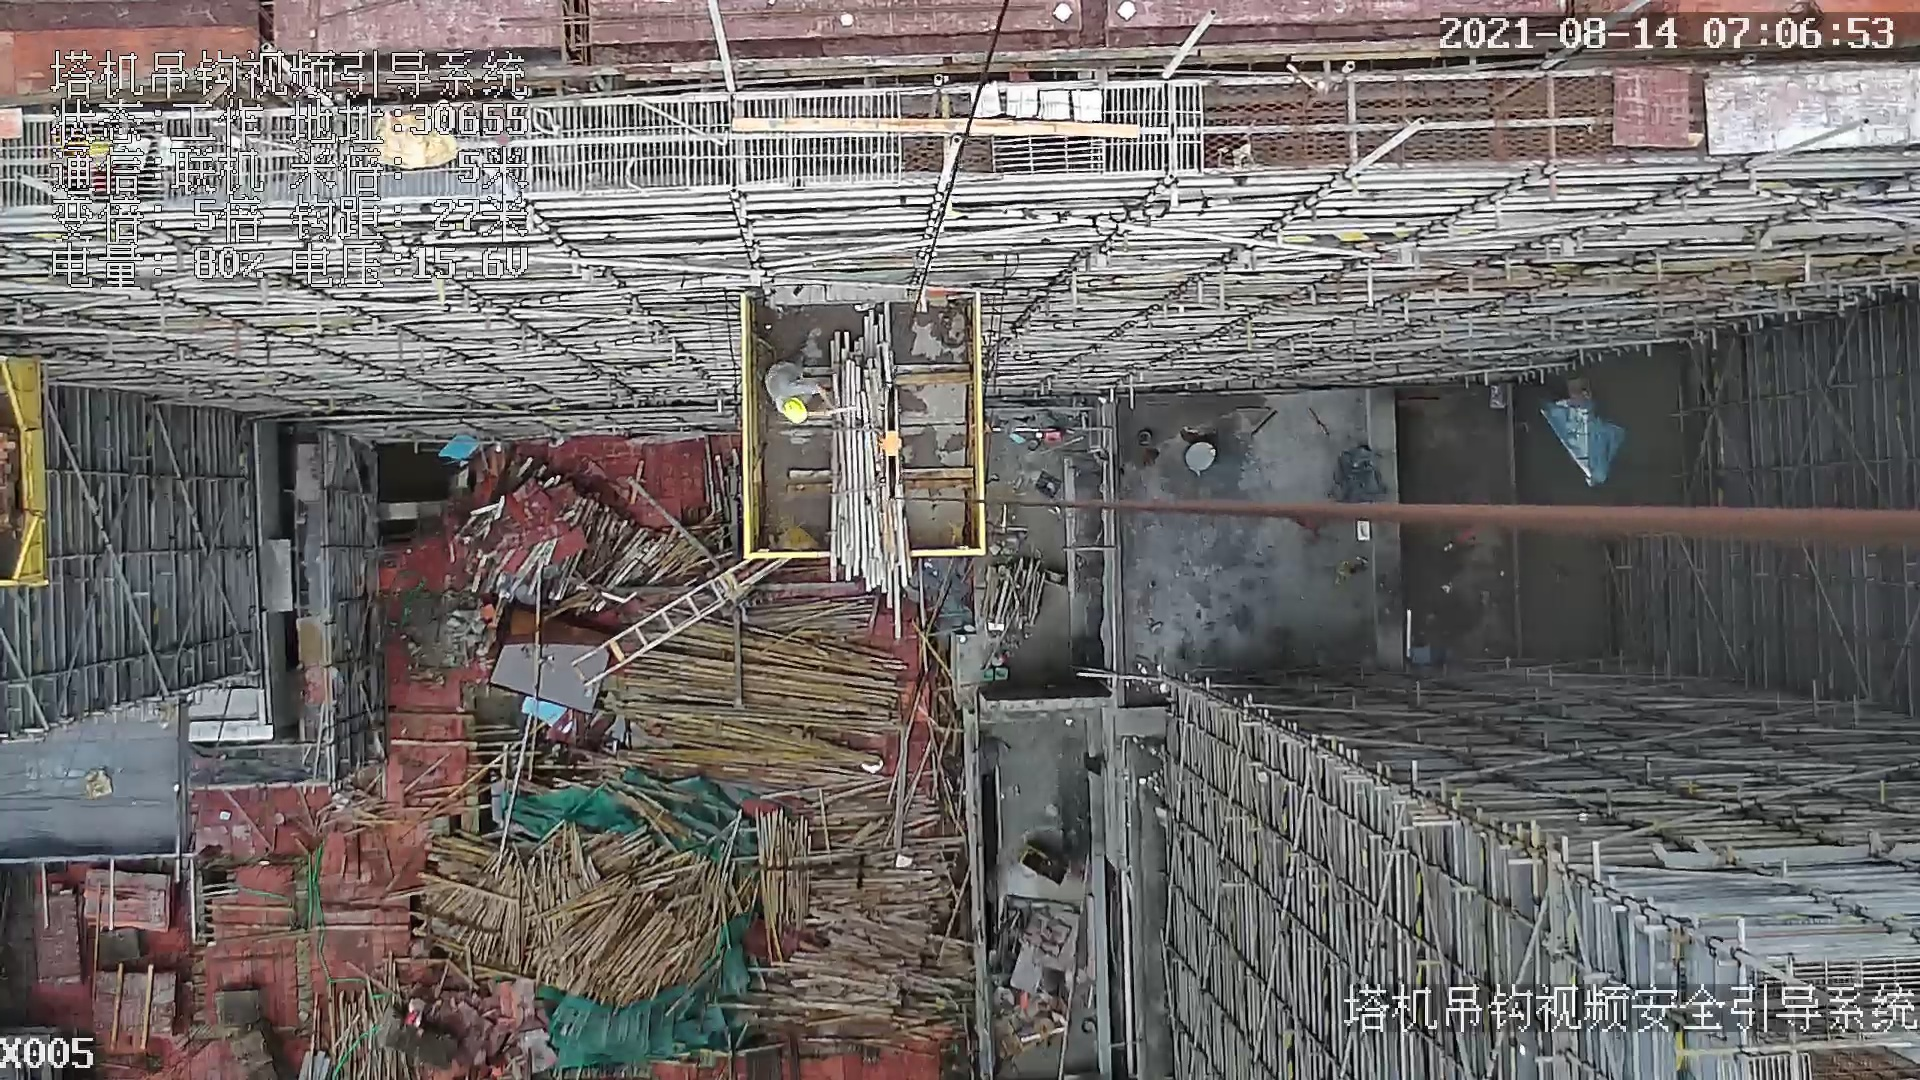helmet: (779, 396, 808, 425)
hook: (876, 378, 913, 512)
person: (760, 362, 844, 427)
